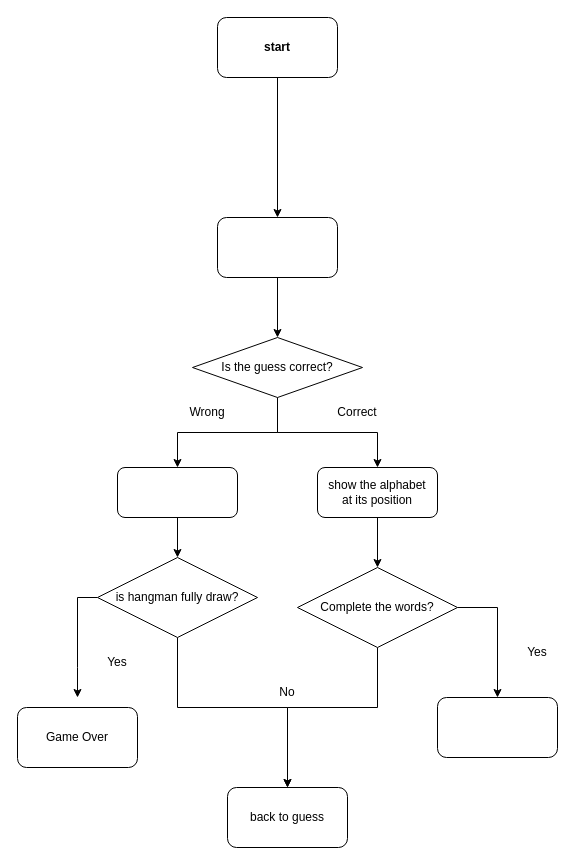
Image size: 585x865. Some labels were removed from this diagram. The centre of each missing label's shape, as x and y in pixels:
"draw the hangman" belongs at pixel 177 492.
"Guess the alphabet" belongs at pixel 277 247.
"Win" belongs at pixel 497 727.
